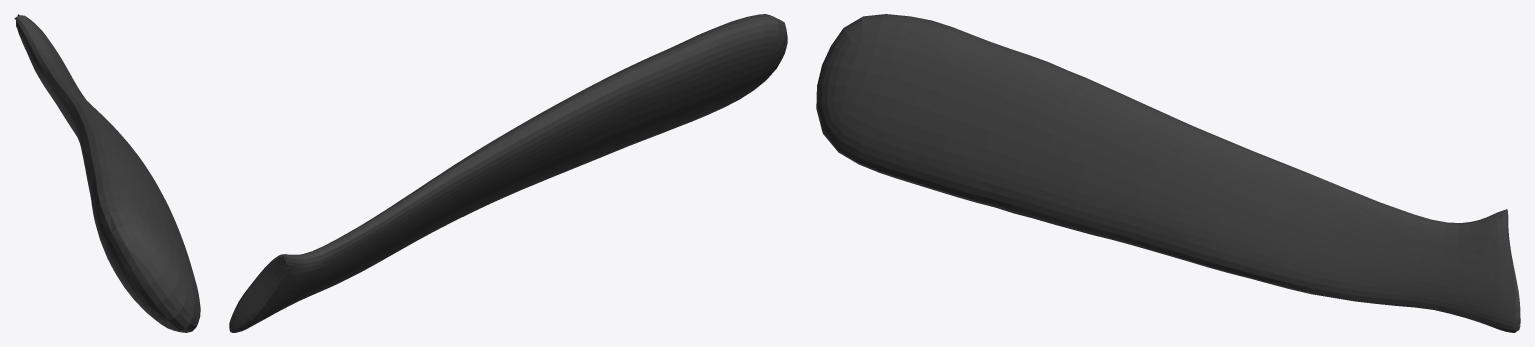
The model's file is vocal_folds_LO_R.glb.
3 renders of one model, left to right at view 1: azimuth 30°, elevation 25°; view 2: azimuth 150°, elevation 25°; view 3: azimuth 270°, elevation 25°, orthographic. The views are drawn at different scales.
Parts seen in each view (by area): view 1: vocal_folds_LO_R; view 2: vocal_folds_LO_R; view 3: vocal_folds_LO_R.
Part boxes in pixels (<box>): vocal_folds_LO_R: <box>14,14,200,332</box>; vocal_folds_LO_R: <box>229,14,787,332</box>; vocal_folds_LO_R: <box>816,14,1520,332</box>.
Bounding box in the file's own units: 0.0842 × 0.0523 × 0.1785.
Materials: 1 (1 with a texture image).
